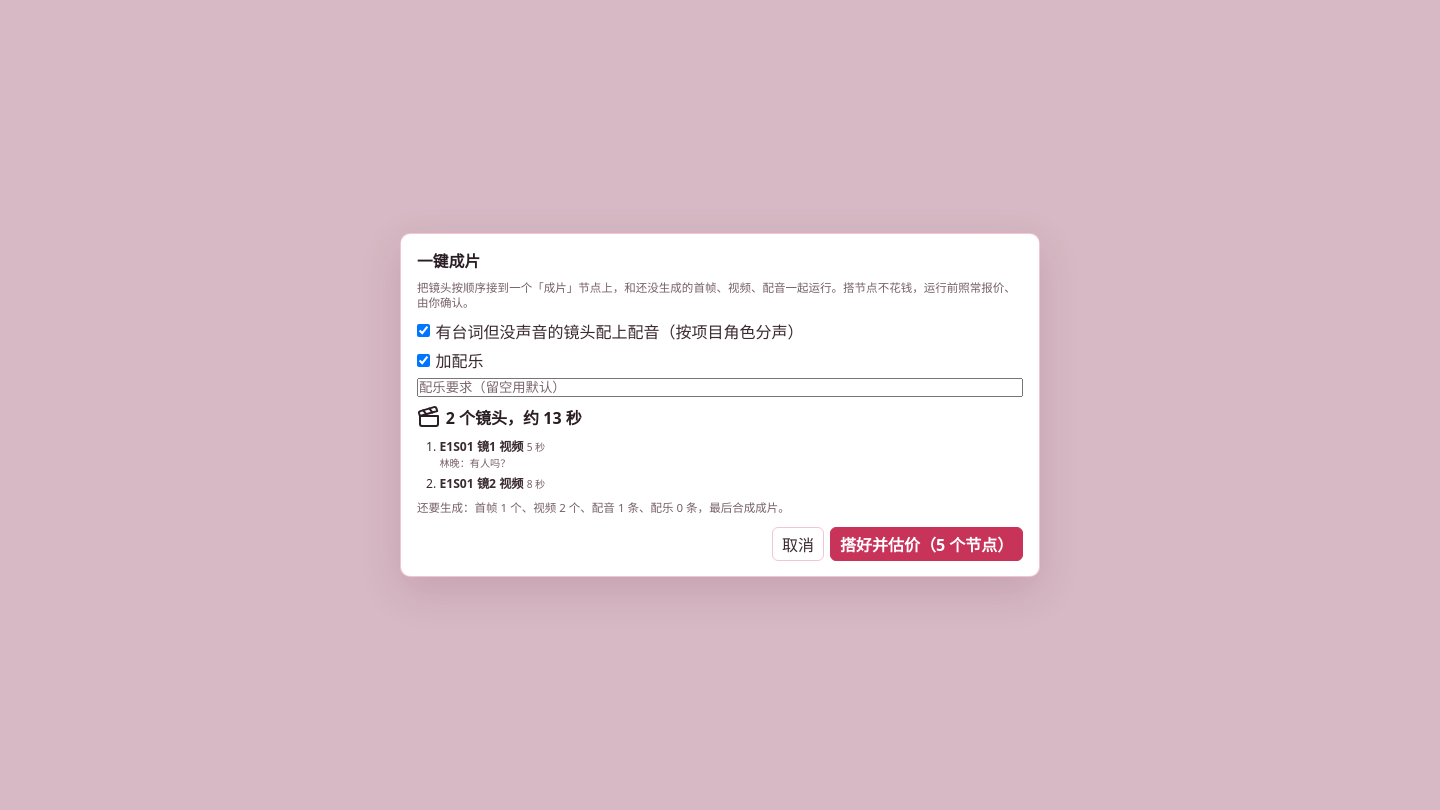
one-click film › keeps the music on when the film already has music, until the person turns it off
The width and height of the screenshot is (1440, 810).
Click the checkbox labelled "加配乐". click: (424, 360)
box: 417,354 -> 430,367
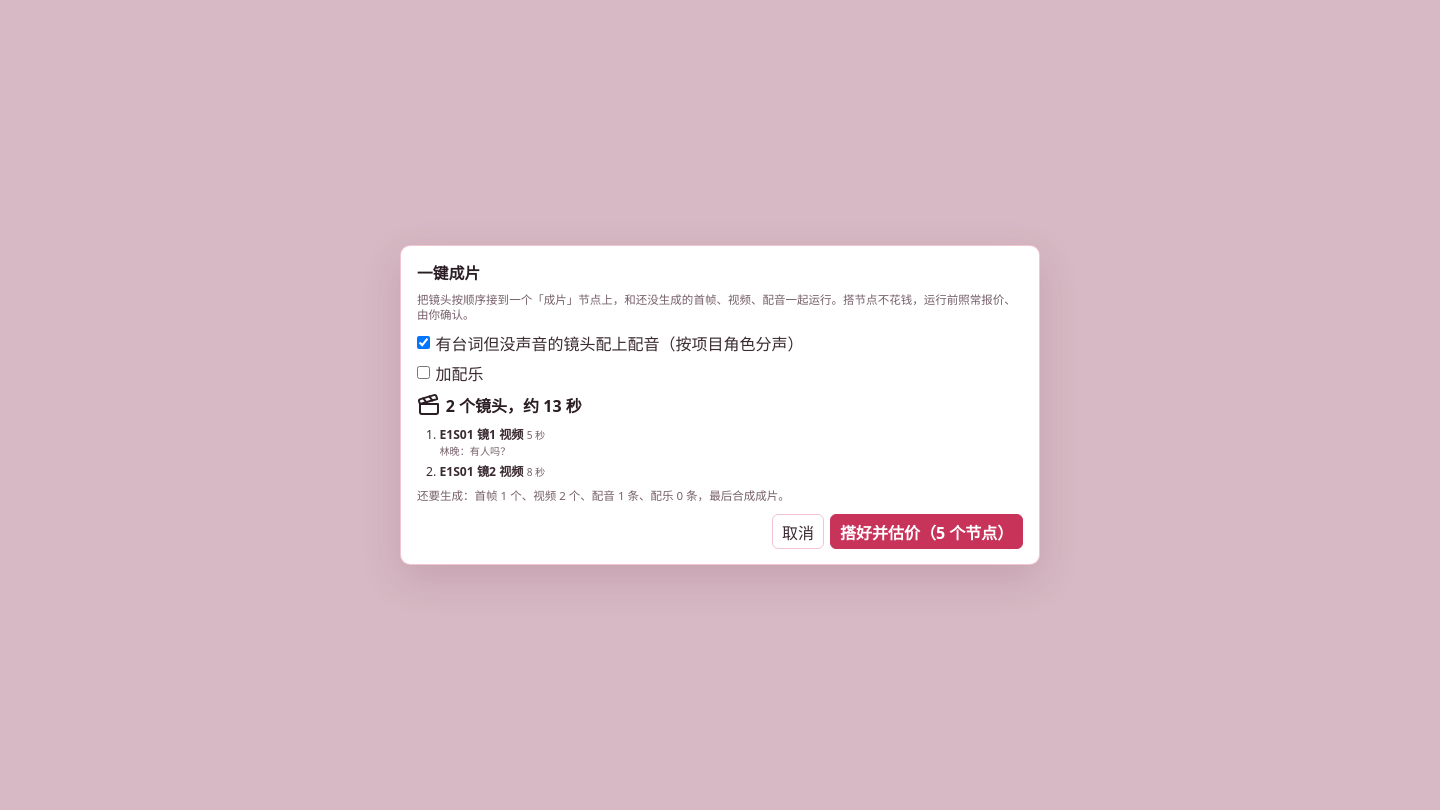
Check: the checkbox labelled "加配乐" is not checked, box 417,366 -> 430,379
